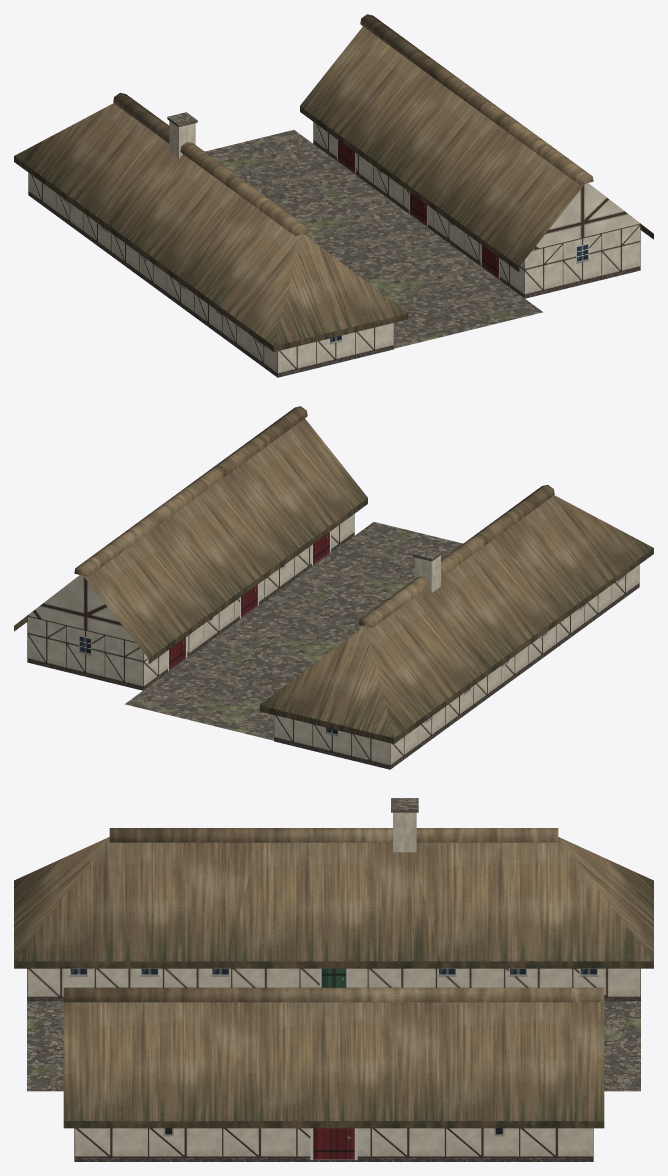
Rendered from SM_Farm_Parallel.fbx.
3 views of the same model, one above another, from view 1: azimuth 30°, elevation 25°; view 2: azimuth 150°, elevation 25°; view 3: azimuth 270°, elevation 25° (orthographic). The views are drawn at different scales.
Visible parts, largest first — view 1: SM_Farm_Parallel; view 2: SM_Farm_Parallel; view 3: SM_Farm_Parallel.
Boxes of the visible parts, left/top/right/bottom form: SM_Farm_Parallel: left=14, top=14, right=653, bottom=377; SM_Farm_Parallel: left=14, top=406, right=653, bottom=769; SM_Farm_Parallel: left=14, top=798, right=653, bottom=1161.
Bounding box in the file's own units: 2410 × 2710 × 764.
Materials: 1 (1 with a texture image).
